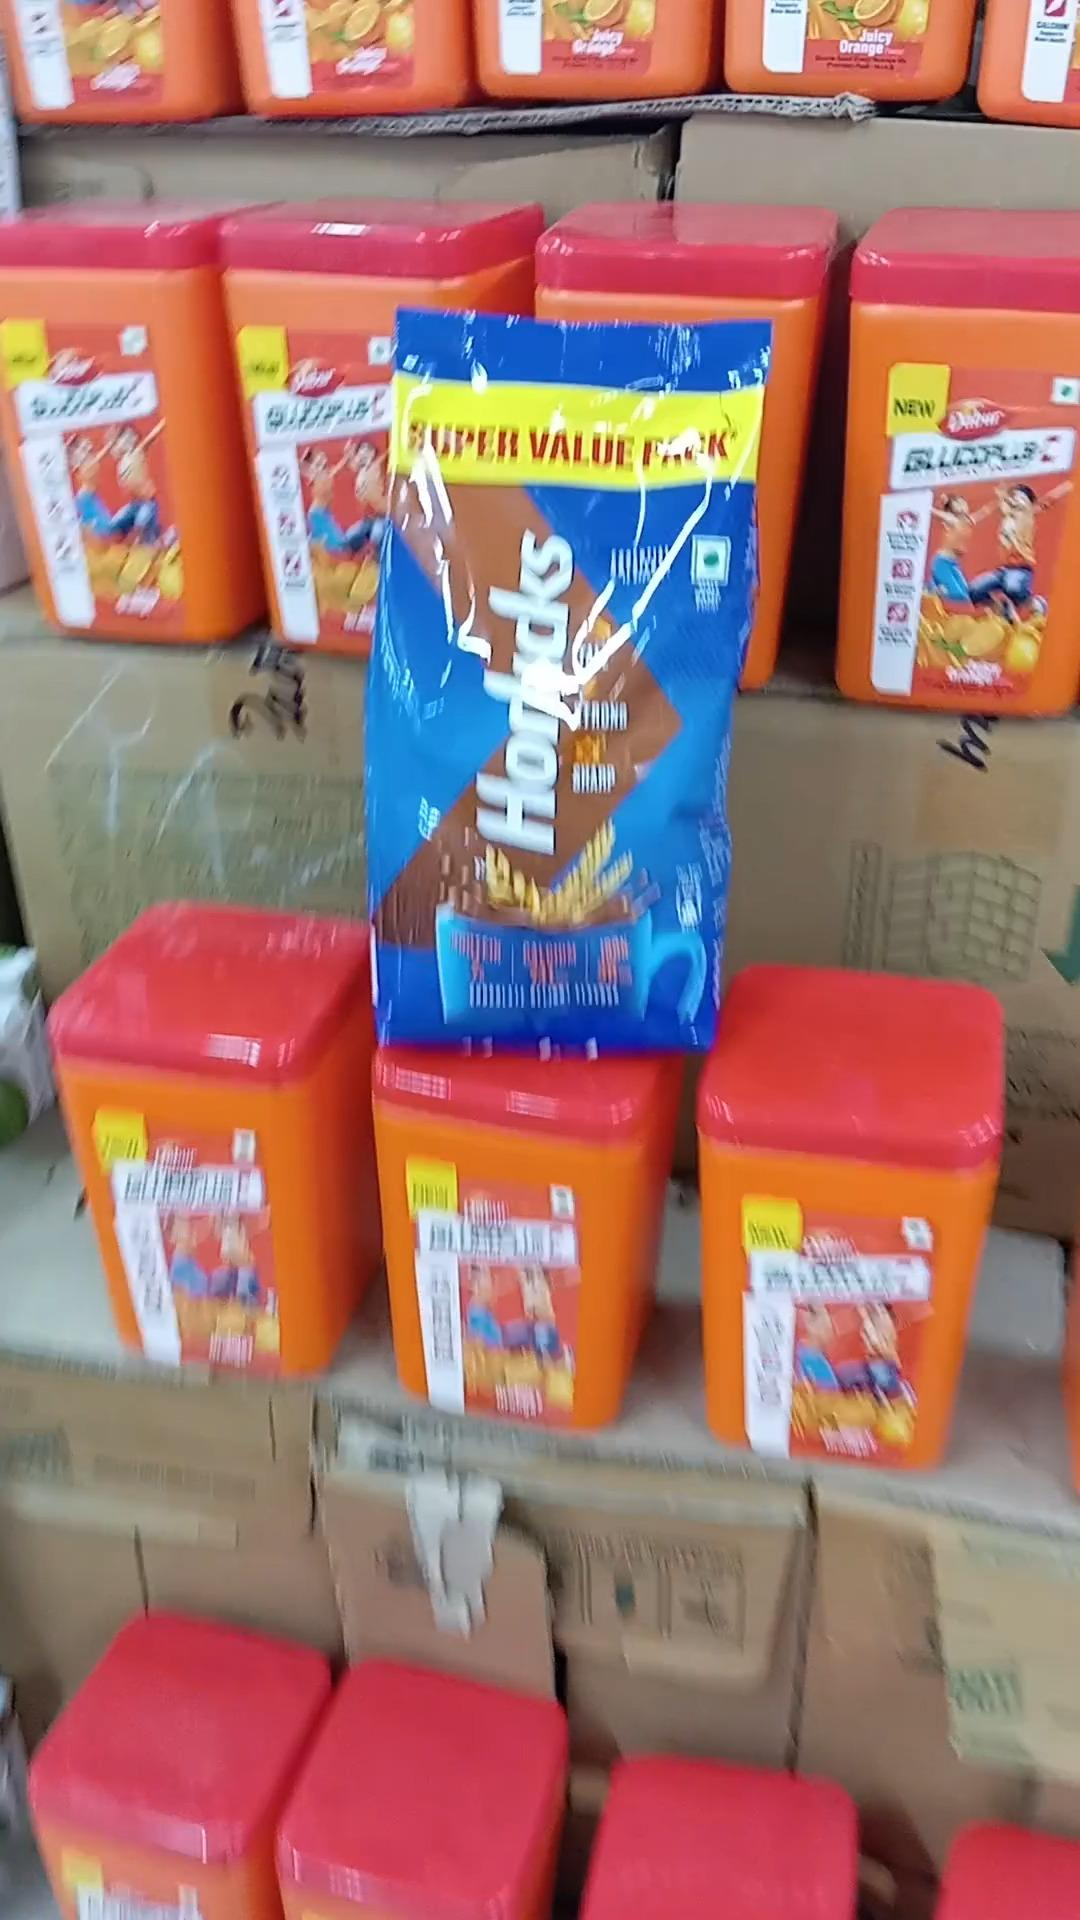HORLICK_CHOCOLATE_750_G_POUCH: (378, 286, 719, 1058)
